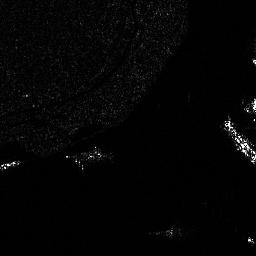ship: (1, 158, 21, 170)
